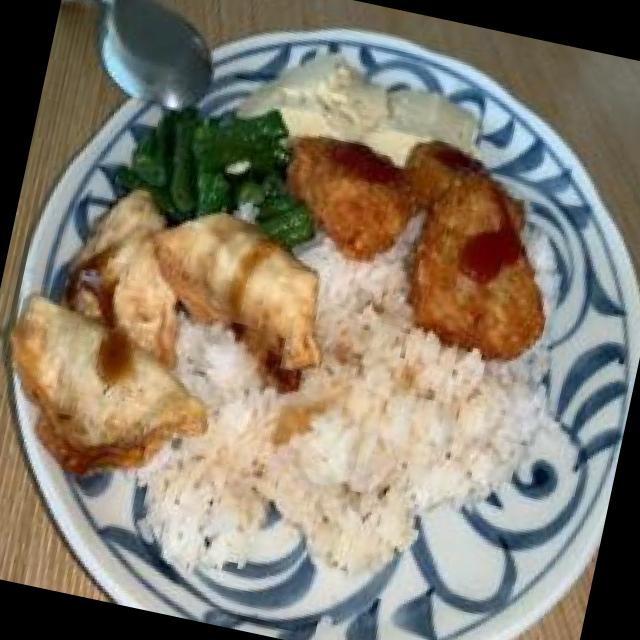rice: (169, 299, 530, 614)
triangle_hash_brown: (259, 112, 577, 366)
